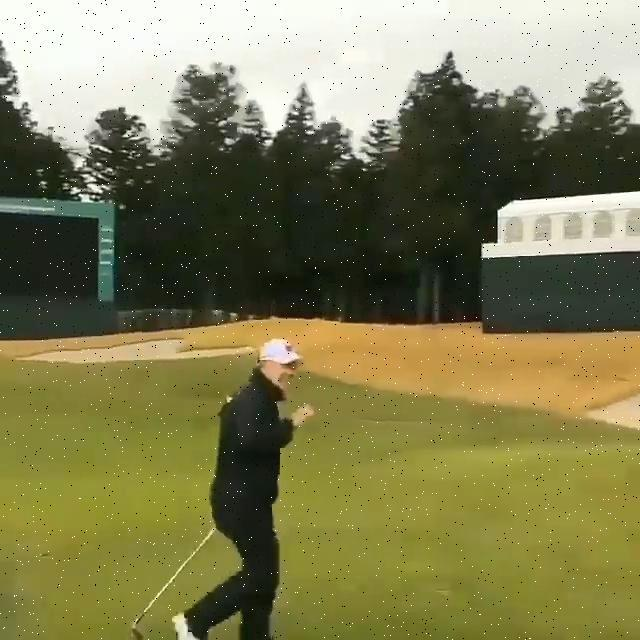golf club-handle: (128, 524, 216, 640)
golf club-head: (129, 625, 145, 640)
